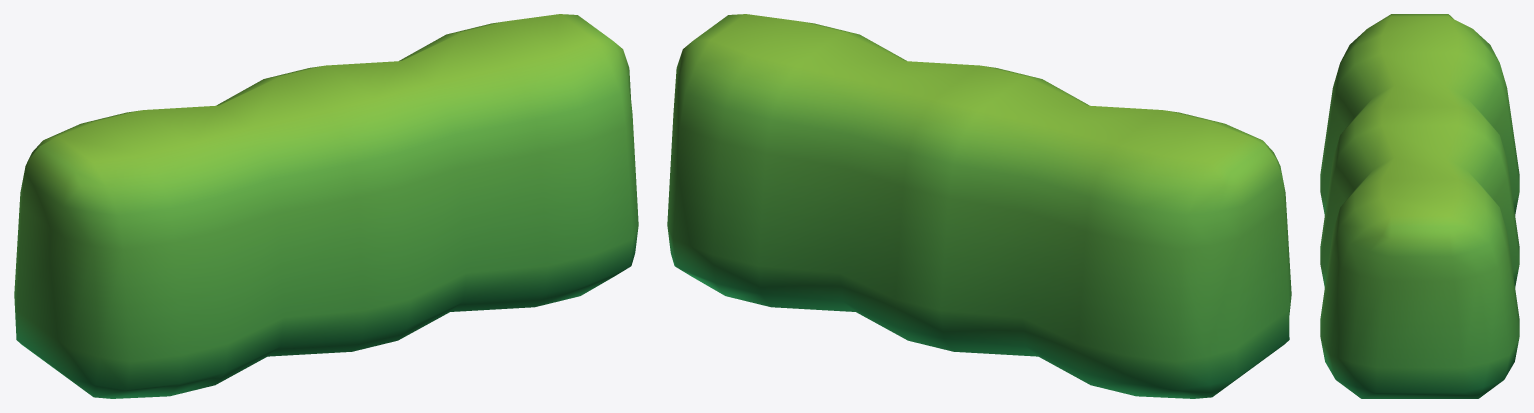
File: hedge_straight_long.fbx
3 renders of one model, left to right at view 1: azimuth 30°, elevation 25°; view 2: azimuth 150°, elevation 25°; view 3: azimuth 270°, elevation 25°, orthographic. The views are drawn at different scales.
Parts seen in each view (by area): view 1: hedge_straight_long; view 2: hedge_straight_long; view 3: hedge_straight_long.
Part boxes in pixels (x1=…): hedge_straight_long: x1=14, y1=14, x2=638, y2=398; hedge_straight_long: x1=667, y1=14, x2=1291, y2=398; hedge_straight_long: x1=1320, y1=14, x2=1519, y2=398.
Bounding box in the file's own units: 400 × 150 × 150.
1 material, 1 textured.
